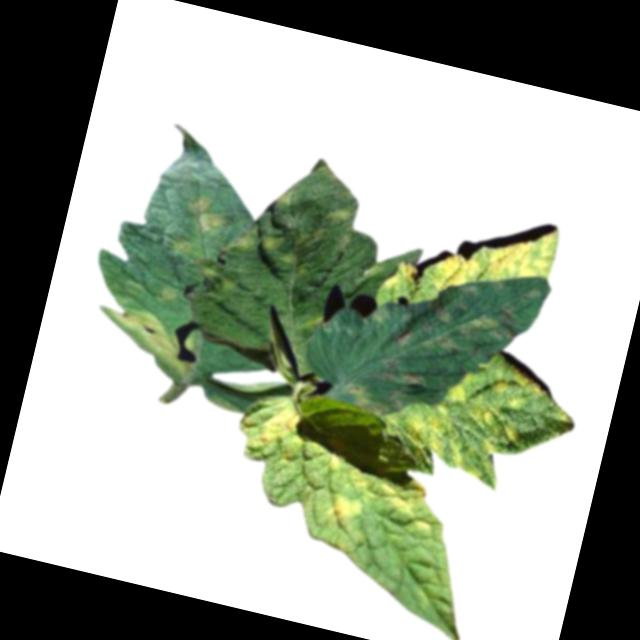Leaf_Mold: (396, 342, 585, 506), (381, 191, 561, 322), (392, 260, 544, 379), (90, 298, 201, 378), (339, 350, 428, 424), (223, 210, 307, 272), (240, 395, 304, 458), (307, 488, 368, 553), (180, 186, 232, 238), (374, 471, 429, 515), (323, 194, 362, 233), (324, 452, 344, 476)
